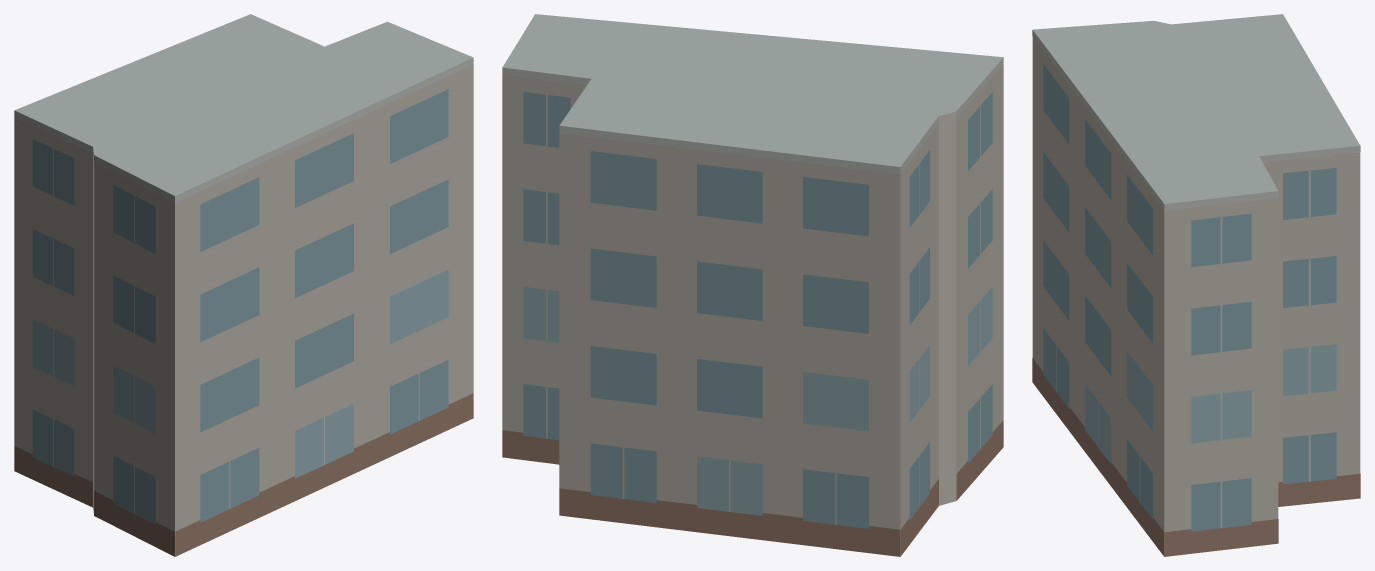
File: survey-upis-32474691.glb
The picture shows the model from 3 angles, left to right: view 1: azimuth 30°, elevation 25°; view 2: azimuth 150°, elevation 25°; view 3: azimuth 270°, elevation 25°; orthographic projection. The views are drawn at different scales.
Parts seen in each view (by area): view 1: survey-upis-32474691.tmp; view 2: survey-upis-32474691.tmp; view 3: survey-upis-32474691.tmp.
Part boxes in pixels (x1,y1,x2,y2): survey-upis-32474691.tmp: [14, 14, 473, 556]; survey-upis-32474691.tmp: [502, 14, 1003, 556]; survey-upis-32474691.tmp: [1032, 14, 1360, 556].
Bounding box in the file's own units: 14.93 × 12.9 × 10.88.
